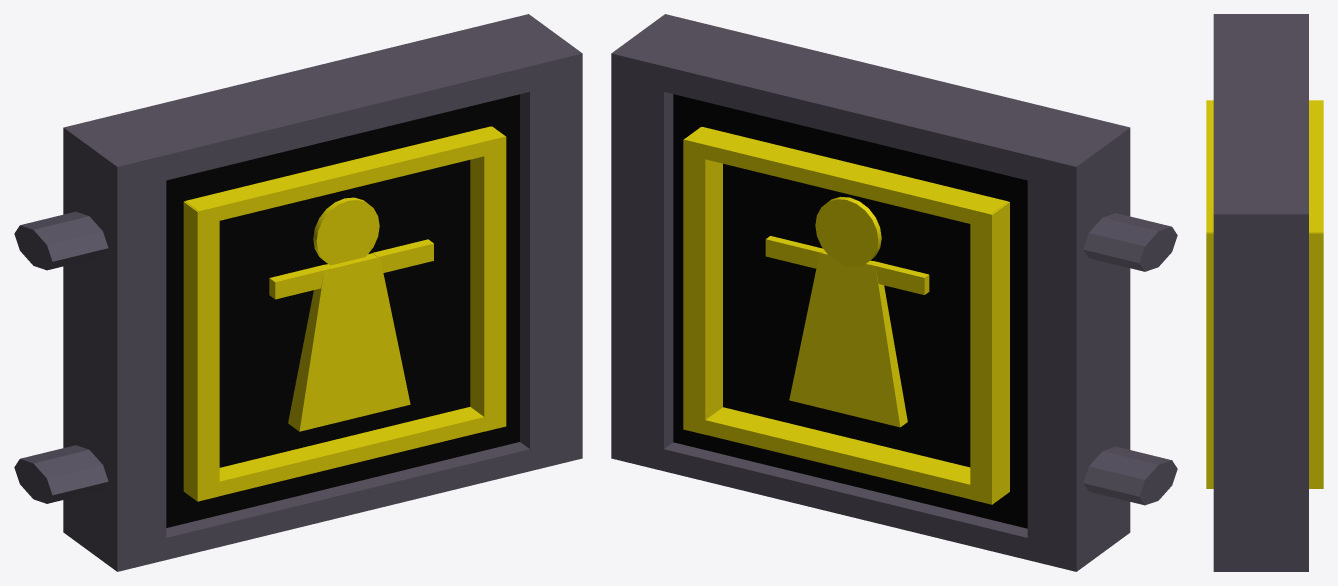
Rendered from Neon_person_ver2_square.fbx.
3 renders of one model, left to right at view 1: azimuth 30°, elevation 25°; view 2: azimuth 150°, elevation 25°; view 3: azimuth 270°, elevation 25°, orthographic. The views are drawn at different scales.
Visible parts, largest first — view 1: NeonSign_Square7, Neon_person_ver2_square; view 2: NeonSign_Square7, Neon_person_ver2_square; view 3: NeonSign_Square7, Neon_person_ver2_square.
Part boxes in pixels (left/top/right/bottom): NeonSign_Square7: left=14, top=14, right=582, bottom=571; Neon_person_ver2_square: left=183, top=126, right=506, bottom=501; NeonSign_Square7: left=611, top=14, right=1177, bottom=571; Neon_person_ver2_square: left=683, top=127, right=1009, bottom=504; NeonSign_Square7: left=1213, top=14, right=1308, bottom=571; Neon_person_ver2_square: left=1206, top=100, right=1323, bottom=488.
Bounding box in the file's own units: 1.12 × 0.8317 × 0.2468.
